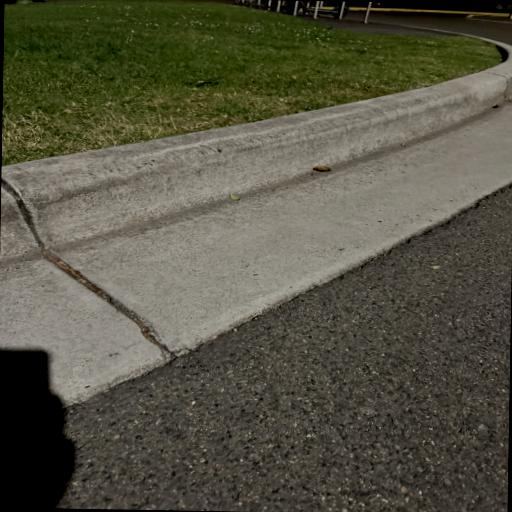kerb: (0, 44, 512, 405)
